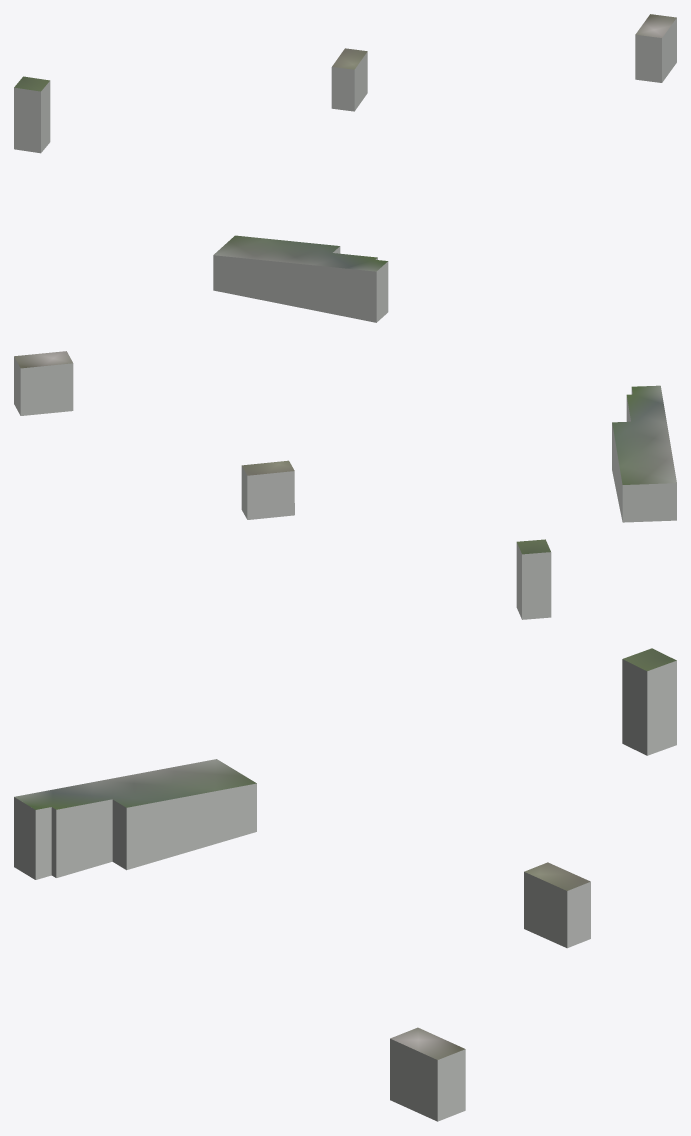
Rendered from LSGG_1_2.glb.
3 views of the same model, one above another, from view 1: azimuth 30°, elevation 25°; view 2: azimuth 150°, elevation 25°; view 3: azimuth 270°, elevation 25° (orthographic). The views are drawn at different scales.
Visible parts, largest first — view 1: building_040807c8e1038a00, building_10904207bedc2471, building_cd875b9cec583e1f; view 2: building_040807c8e1038a00, building_10904207bedc2471, building_cd875b9cec583e1f; view 3: building_040807c8e1038a00, building_10904207bedc2471, building_cd875b9cec583e1f.
Part boxes in pixels (box(x1,y1,x2,y2)): building_040807c8e1038a00: box(213, 18, 676, 322); building_10904207bedc2471: box(213, 14, 676, 271); building_cd875b9cec583e1f: box(14, 81, 50, 153); building_040807c8e1038a00: box(14, 357, 676, 522); building_10904207bedc2471: box(14, 351, 676, 484); building_cd875b9cec583e1f: box(516, 542, 551, 619); building_040807c8e1038a00: box(14, 783, 590, 1121); building_10904207bedc2471: box(14, 759, 590, 1059); building_cd875b9cec583e1f: box(622, 659, 676, 755).
Bounding box in the file's own units: 82.87 × 13.07 × 59.41.
Materials: 2 (1 with a texture image).
